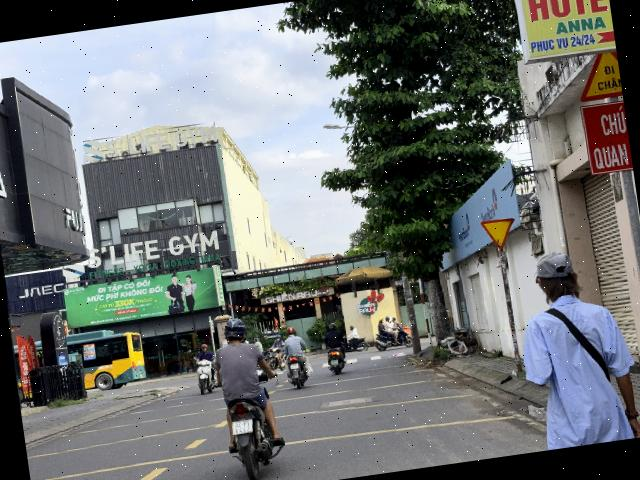giao-nhau-voi-duong-uu-tien: (479, 216, 520, 253)
